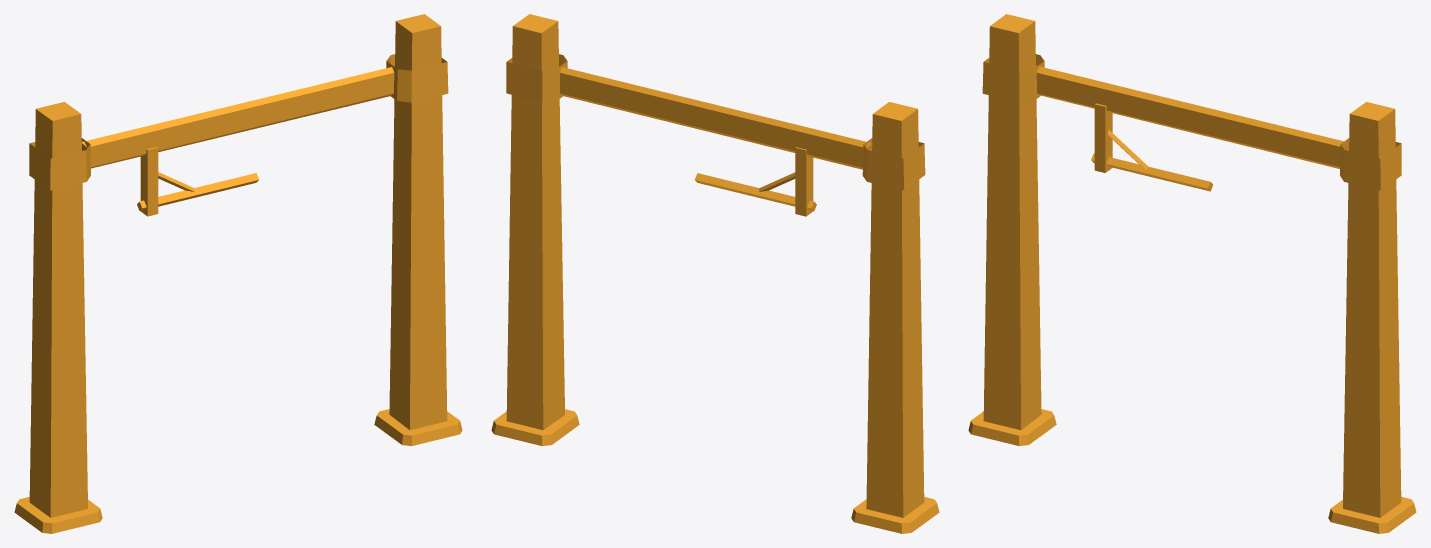
Rendered from SM_Train_Wiring_Collider.fbx.
3 renders of one model, left to right at view 1: azimuth 30°, elevation 25°; view 2: azimuth 150°, elevation 25°; view 3: azimuth 330°, elevation 25°, orthographic.
Parts seen in each view (by area): view 1: SM_Train_Wiring_Collider; view 2: SM_Train_Wiring_Collider; view 3: SM_Train_Wiring_Collider.
Part boxes in pixels (x1,y1,x2,y2): SM_Train_Wiring_Collider: (14, 14, 462, 533); SM_Train_Wiring_Collider: (491, 14, 939, 533); SM_Train_Wiring_Collider: (968, 14, 1416, 533).
Size of the model in its own units: 9.34 by 8.58 by 1.34.
